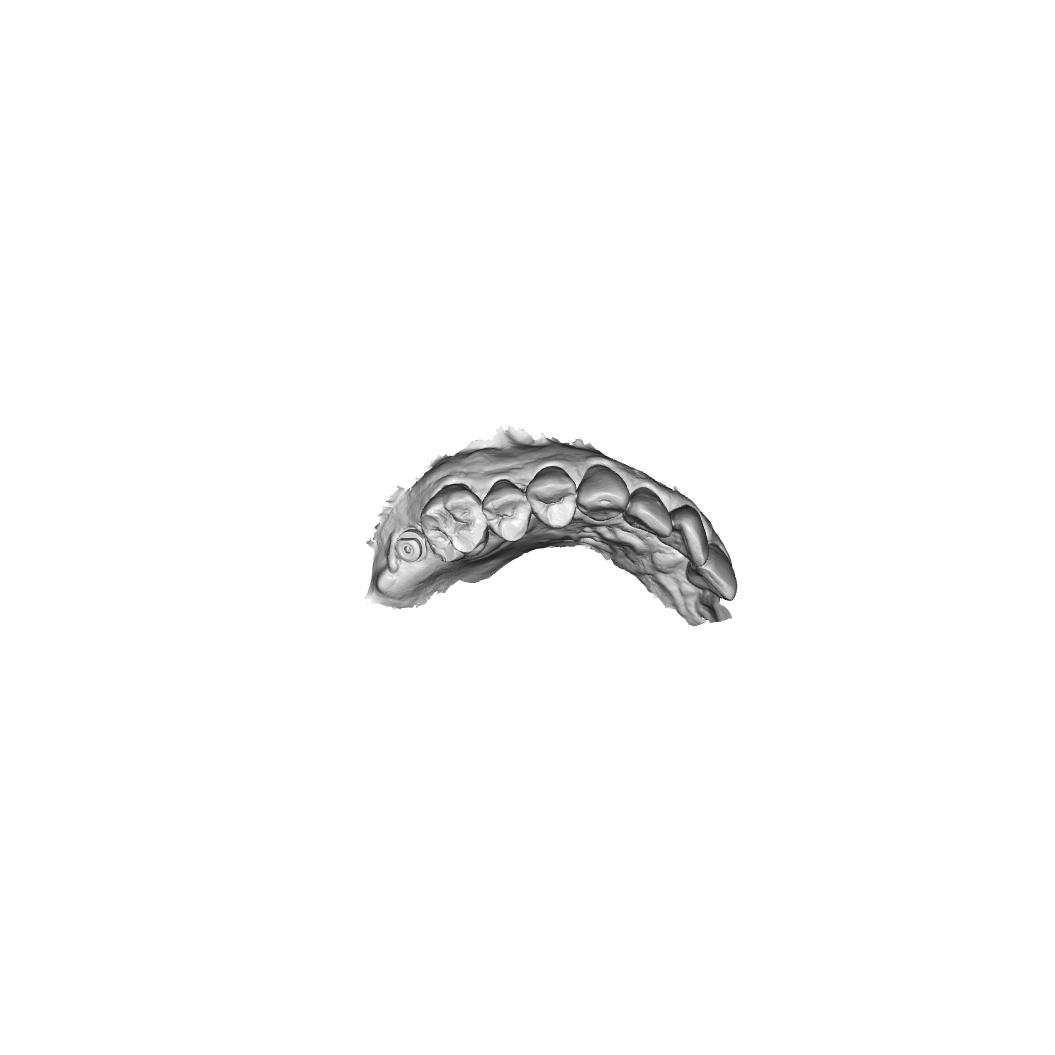canine: (574, 464, 632, 523)
implant: (394, 527, 428, 565)
incisor: (656, 504, 710, 567), (685, 543, 739, 604), (622, 486, 674, 540)
molar: (419, 482, 489, 564)
premolar: (525, 465, 578, 529), (481, 478, 532, 543)
